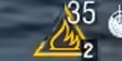2fire: (30, 27, 97, 60)
